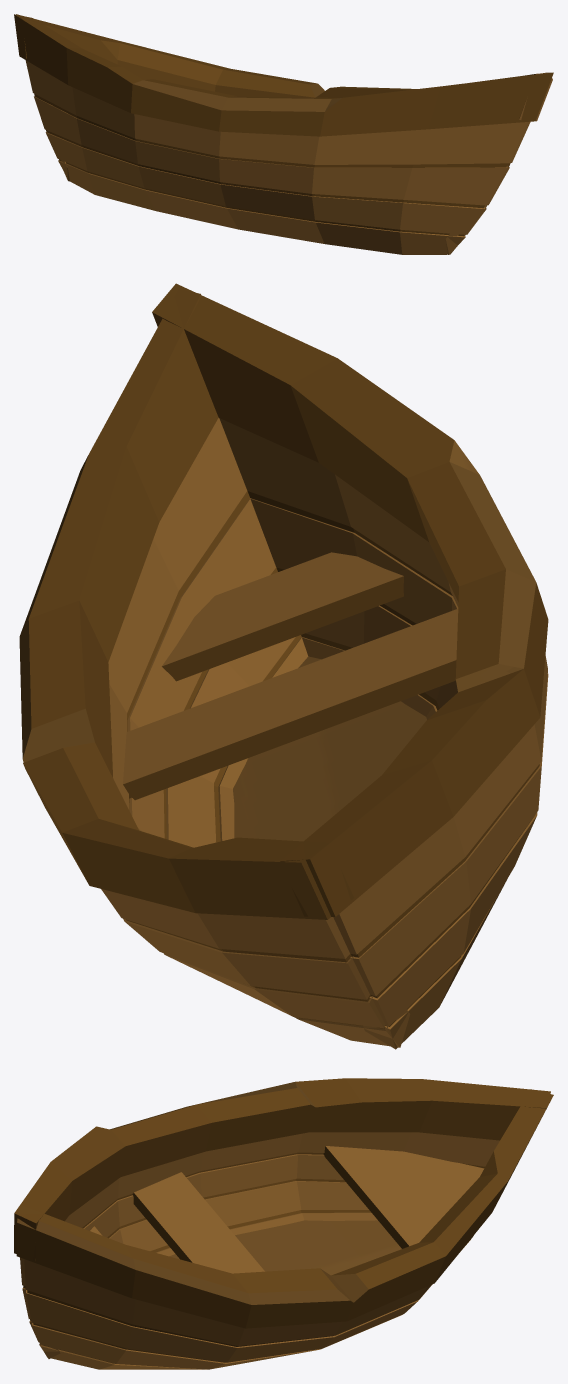
File: Boat.fbx
3 views of the same model, one above another, from view 1: azimuth 30°, elevation 25°; view 2: azimuth 150°, elevation 25°; view 3: azimuth 270°, elevation 25° (orthographic). The views are drawn at different scales.
Parts seen in each view (by area): view 1: Boat; view 2: Boat; view 3: Boat.
Boxes of the visible parts, x1=… form: Boat: x1=14, y1=14, x2=553, y2=254; Boat: x1=19, y1=283, x2=548, y2=1049; Boat: x1=14, y1=1078, x2=553, y2=1369.
Bounding box in the file's own units: 389 × 231 × 509.
